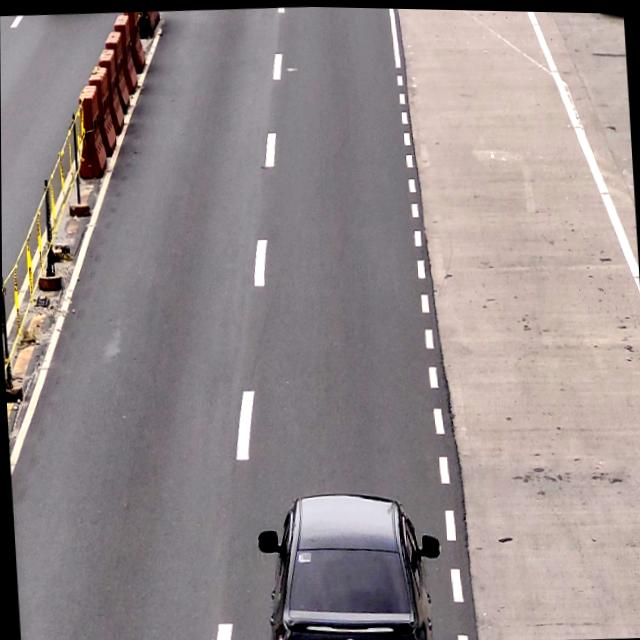Car: (260, 487, 439, 640)
